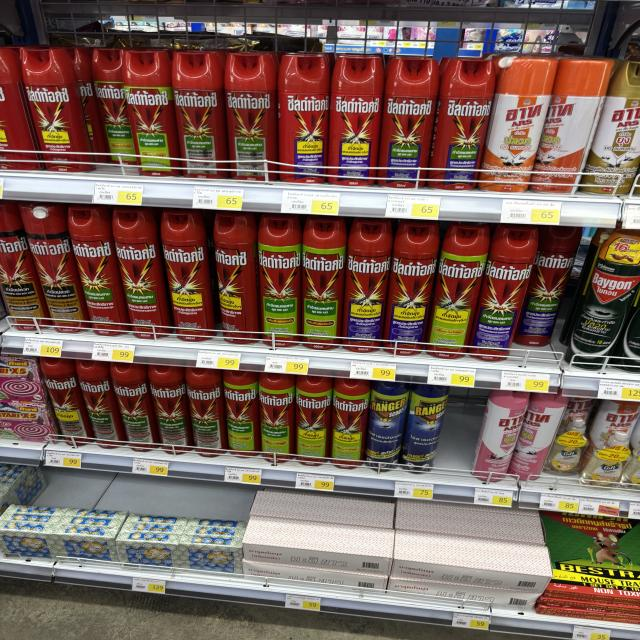empty_shelf: (431, 388, 488, 475)
